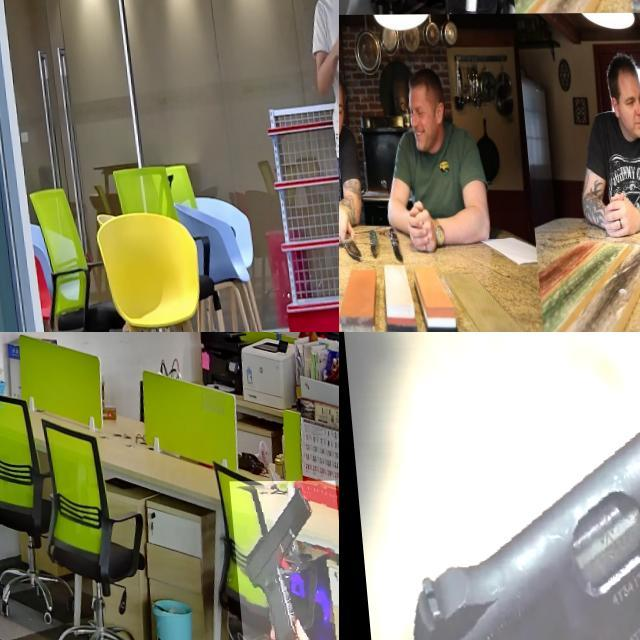-: (339, 211, 357, 264), (616, 0, 640, 27), (339, 0, 352, 19)
gun-knife-thesis - v11 Yolov5 augmented: (339, 332, 640, 640), (221, 481, 339, 640)
